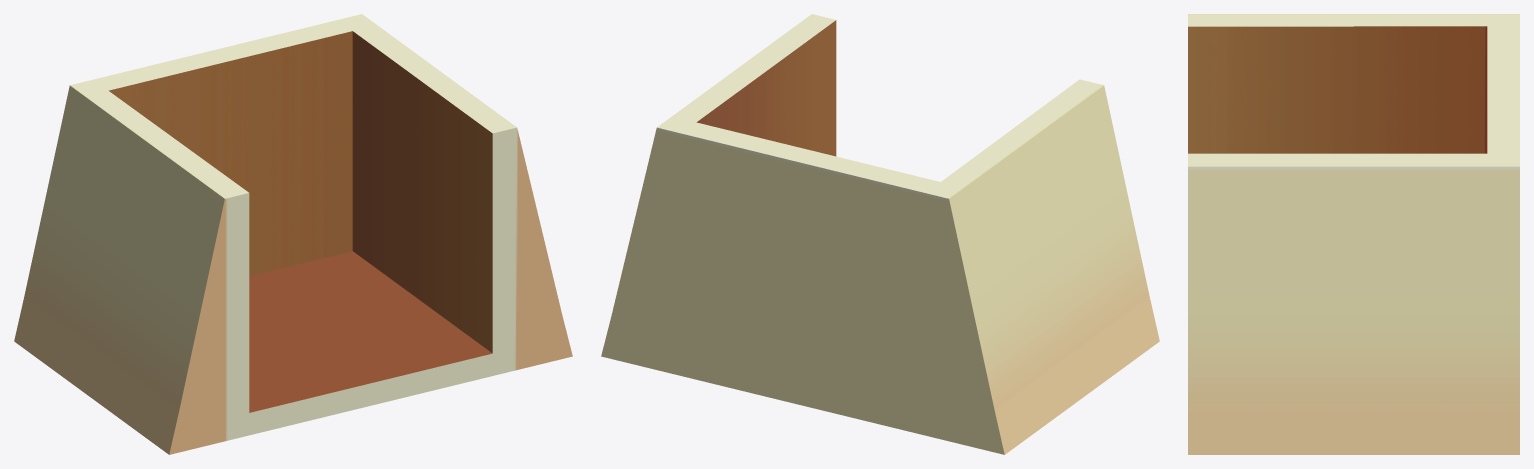
The model's file is endgoal_01.fbx.
3 views of the same model, side by side, from view 1: azimuth 30°, elevation 25°; view 2: azimuth 150°, elevation 25°; view 3: azimuth 270°, elevation 25° (orthographic). The views are drawn at different scales.
Visible parts, largest first — view 1: pCube5; view 2: pCube5; view 3: pCube5.
Boxes of the visible parts, <box> form: pCube5: <box>14,14,572,454</box>; pCube5: <box>601,14,1159,454</box>; pCube5: <box>1188,14,1519,454</box>.
Size of the model in its own units: 303 by 174 by 202.
